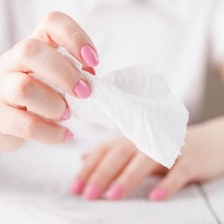tissue: (47, 39, 197, 175)
